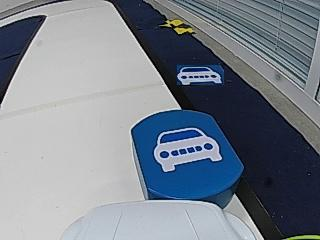safety: (154, 127, 224, 170)
